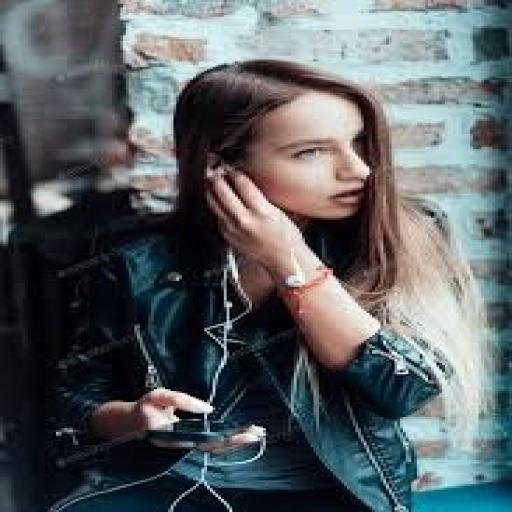listening_to_music: (45, 56, 498, 510)
